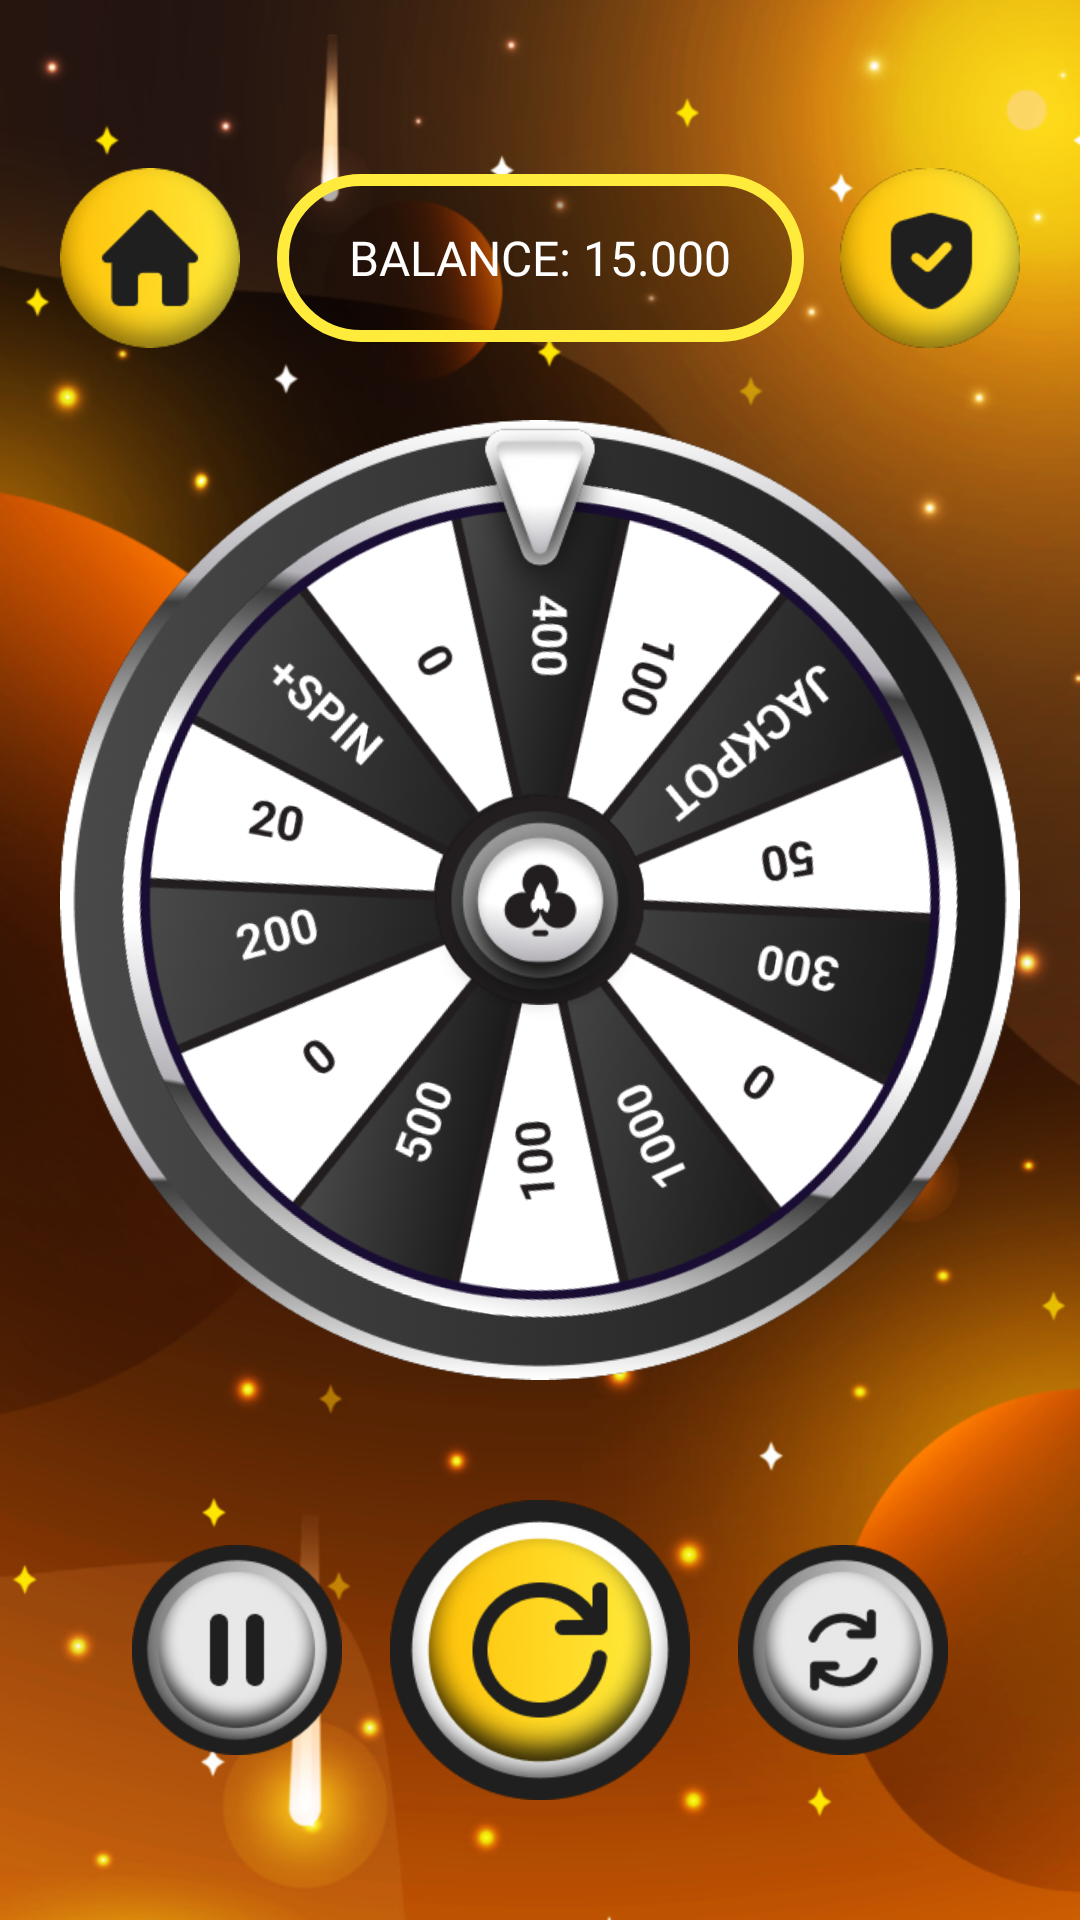

Icon click points for this 1080px x 1920px phone screenshot, format point (x, y):
autospin: point (843, 1650)
home: point (150, 258)
pause: point (237, 1650)
privacy: point (930, 258)
roulette arrow: point (540, 517)
roulette center: point (540, 900)
spin: point (540, 1650)
